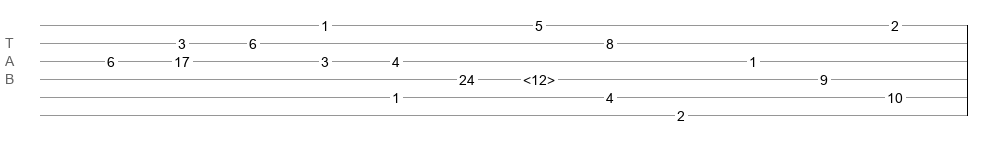1: (321, 18, 329, 28), (392, 90, 400, 100), (749, 54, 757, 64)
10: (887, 90, 903, 100)
17: (174, 54, 190, 64)
2: (677, 108, 685, 118), (891, 18, 899, 28)
24: (459, 72, 475, 82)
3: (178, 36, 186, 46), (321, 54, 329, 64)
4: (392, 54, 400, 64), (606, 90, 614, 100)
5: (535, 18, 543, 28)
6: (107, 54, 115, 64), (249, 36, 257, 46)
8: (606, 36, 614, 46)
9: (820, 72, 828, 82)
harmonic: (523, 72, 555, 82)
